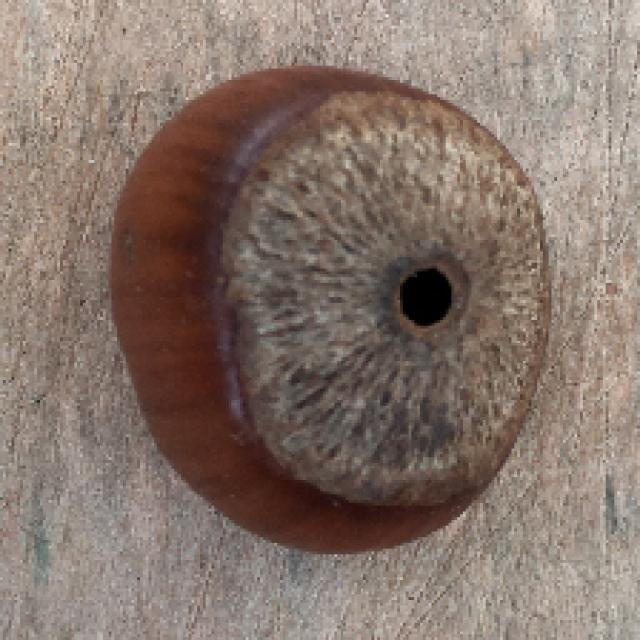damagedHazelnut: (105, 60, 562, 560)
